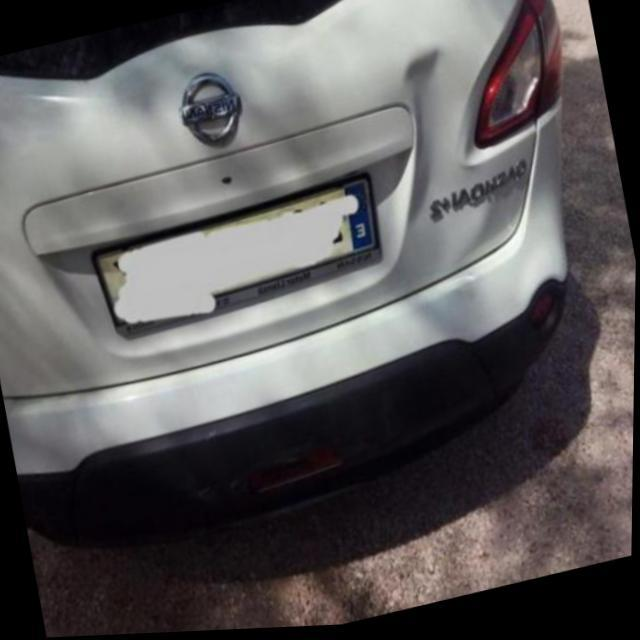dent: (402, 45, 446, 169)
